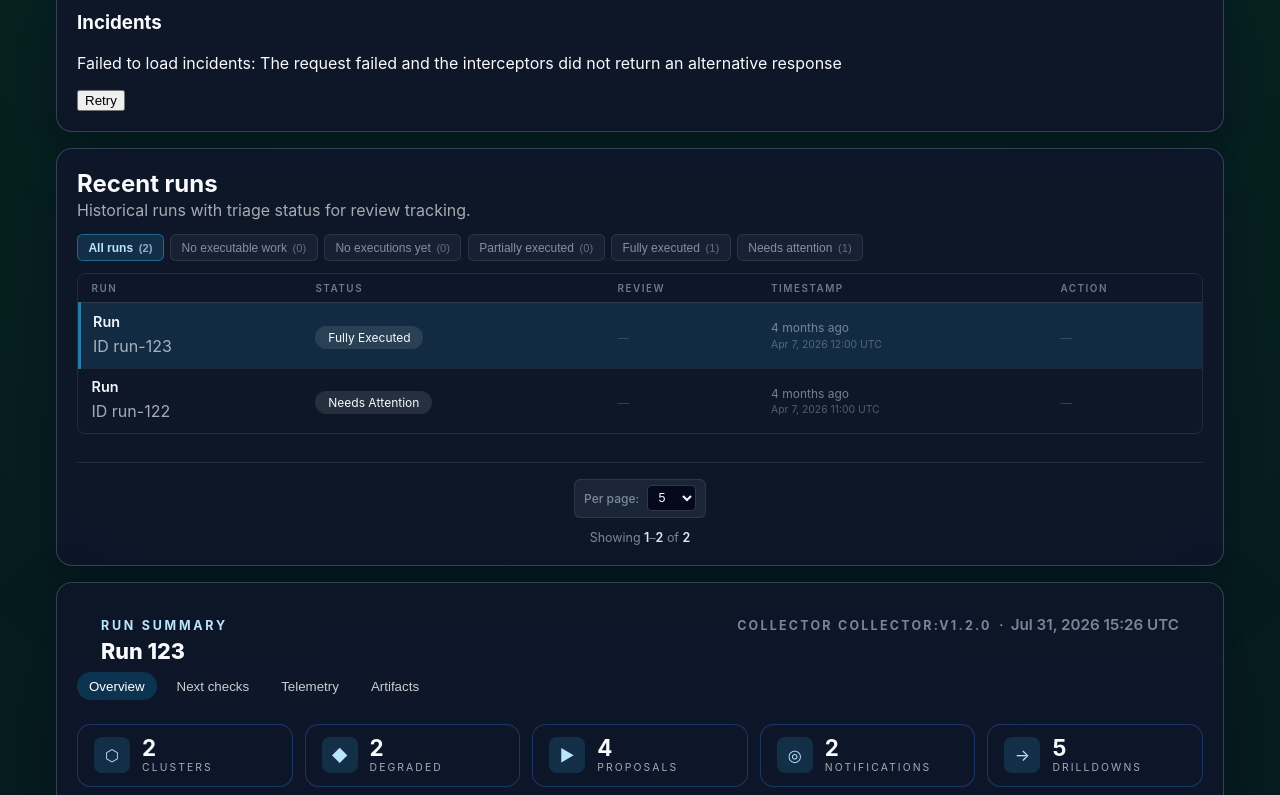
it: Panel selection binding - Per-run panels › Provider Execution Panel shows run-specific execution data
(page scrolled)
Expected: the 1st button with class "run-row" is shown, [80,303,1202,368]
Click the 2nd button with class "run-row".
click(141, 411)  # box [80,368,1202,433]
(page scrolled)
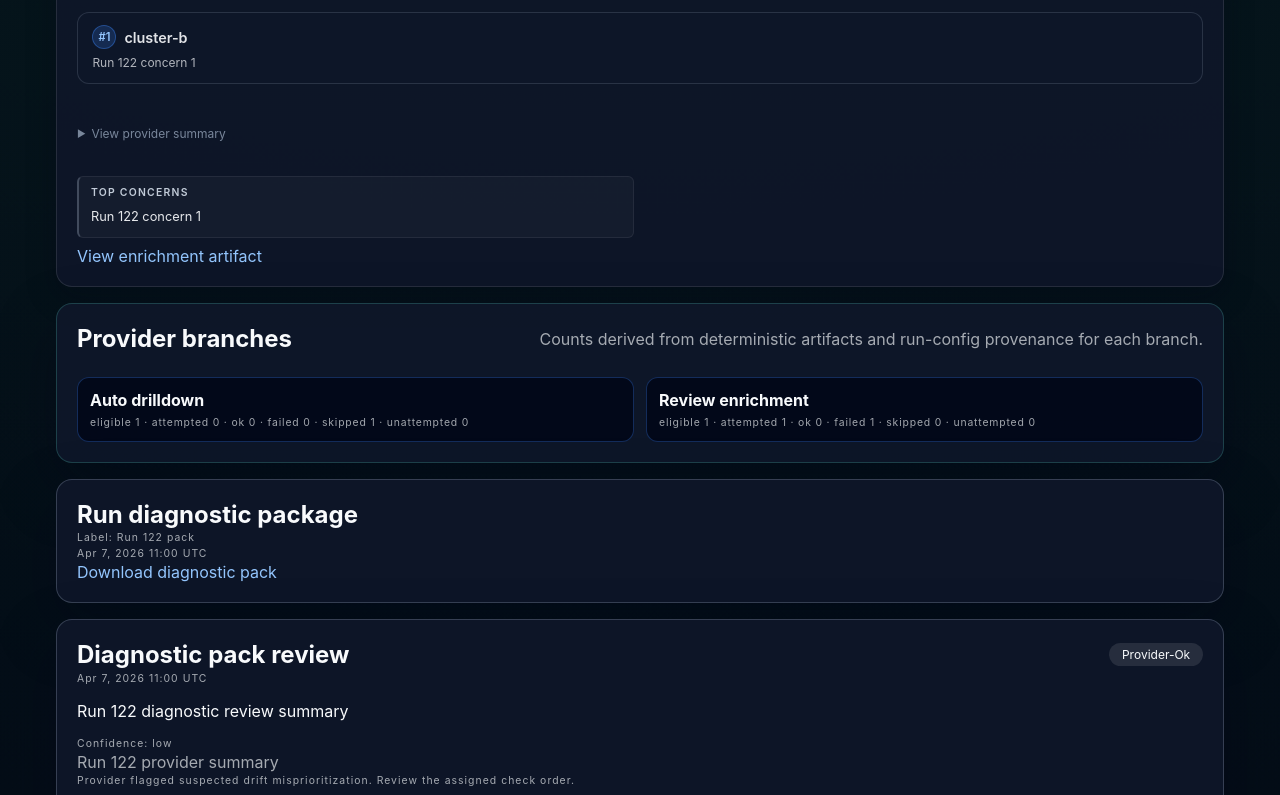
Expected: the text "Auto drilldown" is shown, [90,390,204,410]
Expected: the text "skipped 1" is shown, [90,416,469,429]
Expected: the text "failed 1" is shown, [659,416,1036,429]
